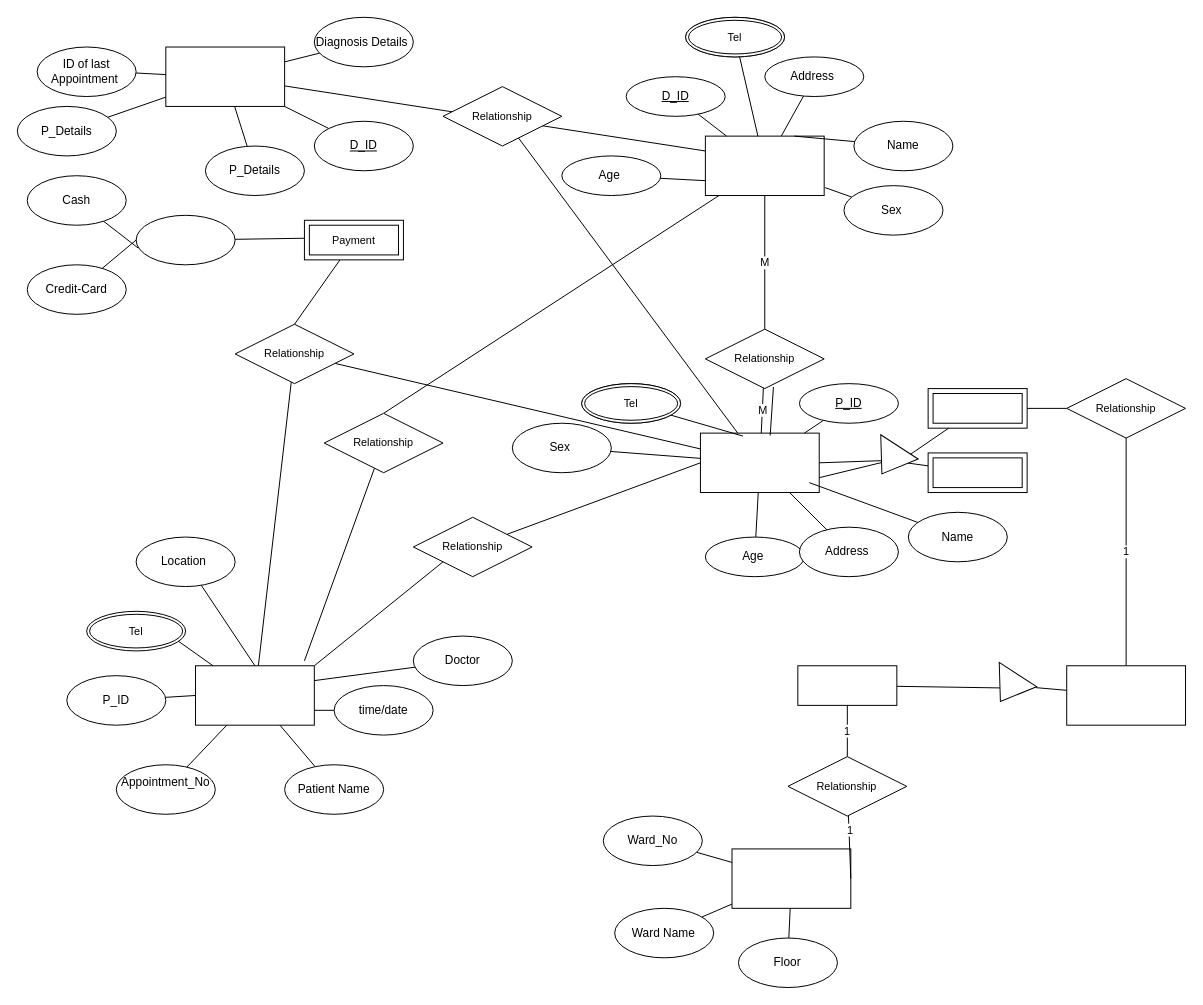
The diagram is 1203 pixels wide and 1005 high, and some of its shapes have lost their labels. The box of each missing label's shape, as (x1, y1, x2, y2) in pixels:
Admitted Patients: (927, 388, 1027, 428)
Appointments: (195, 665, 314, 725)
Diagnosis: (165, 46, 285, 106)
Doctors: (704, 135, 824, 196)
Head Nurse: (797, 665, 897, 705)
Mode of payment: (135, 214, 235, 265)
Nurse: (1066, 665, 1186, 725)
Outpatients: (927, 452, 1027, 493)
Patients: (699, 432, 819, 493)
Ward: (731, 848, 851, 908)
